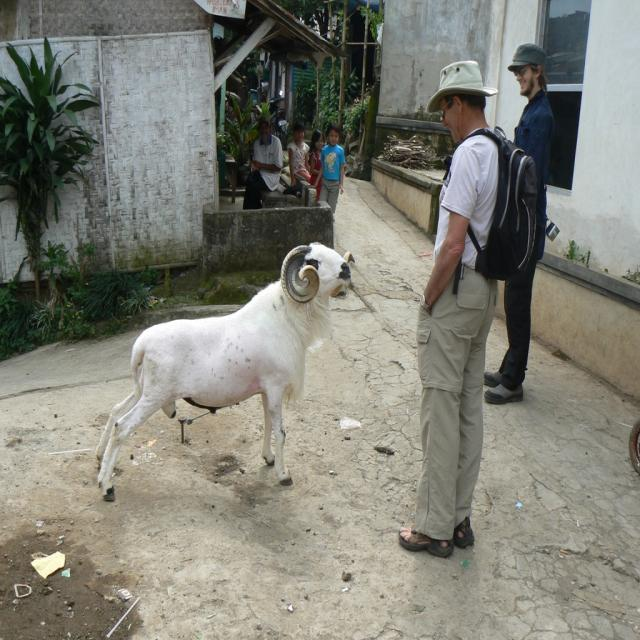Sheep: (95, 242, 355, 504)
